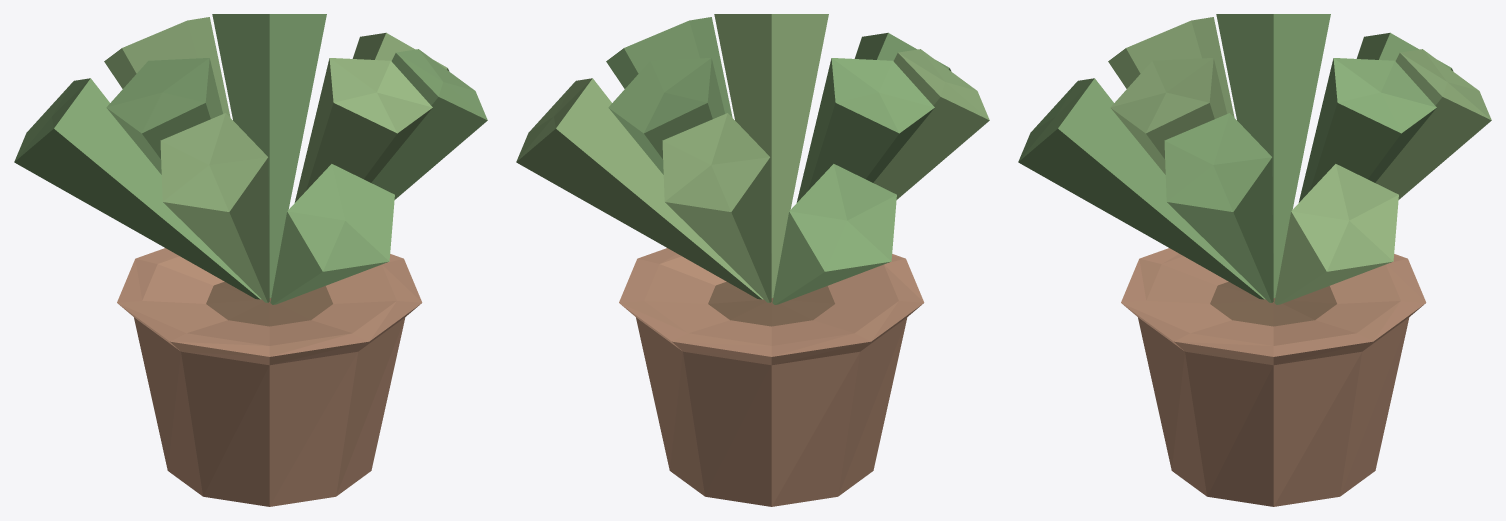
The model's file is plant.glb.
3 renders of one model, left to right at view 1: azimuth 30°, elevation 25°; view 2: azimuth 150°, elevation 25°; view 3: azimuth 270°, elevation 25°, orthographic.
Parts seen in each view (by area): view 1: plant; view 2: plant; view 3: plant.
Boxes of the visible parts, box(x1,y1,x2,y2) form: plant: box(14, 14, 487, 506); plant: box(516, 14, 989, 506); plant: box(1018, 14, 1491, 506).
Size of the model in its own units: 0.5416 by 0.5377 by 0.5496.
